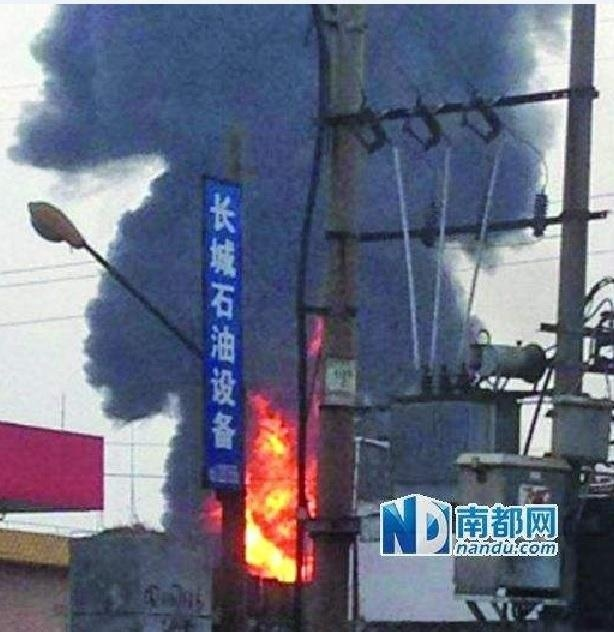fire: (243, 393, 310, 581)
